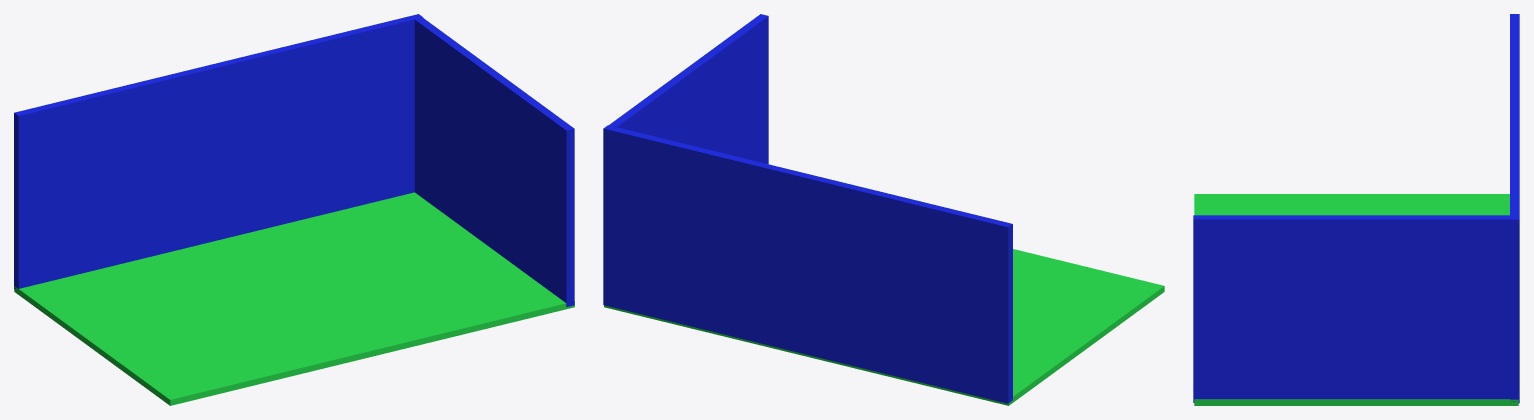
Rendered from Env_wall.FBX.
3 views of the same model, side by side, from view 1: azimuth 30°, elevation 25°; view 2: azimuth 150°, elevation 25°; view 3: azimuth 270°, elevation 25° (orthographic). The views are drawn at different scales.
Visible parts, largest first — view 1: Wall, floor, Wall001; view 2: Wall, floor, Wall001; view 3: Wall001, floor, Wall.
Boxes of the visible parts, x1=… form: Wall: x1=14, y1=14, x2=422, y2=289; floor: x1=14, y1=192, x2=574, y2=405; Wall001: x1=414, y1=17, x2=574, y2=306; Wall: x1=603, y1=125, x2=1012, y2=403; floor: x1=604, y1=249, x2=1164, y2=405; Wall001: x1=608, y1=14, x2=768, y2=164; Wall001: x1=1193, y1=215, x2=1510, y2=402; floor: x1=1194, y1=194, x2=1518, y2=405; Wall: x1=1510, y1=14, x2=1519, y2=403.
Bounding box in the file's own units: 600 × 253 × 402.
